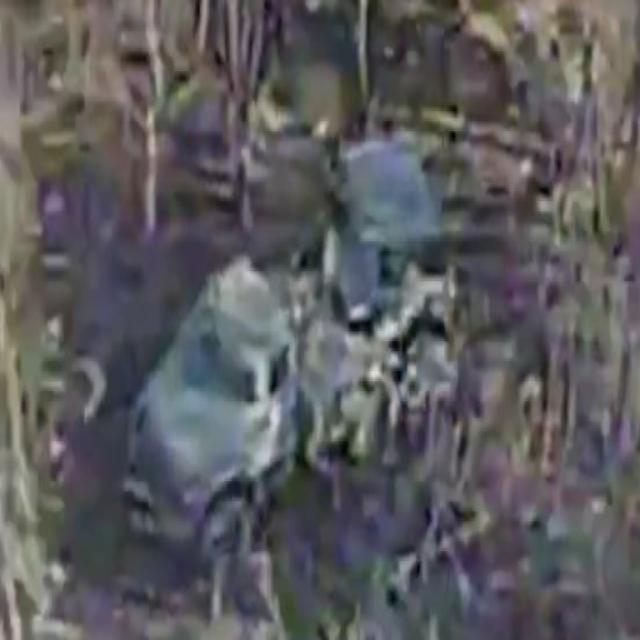MLRS: (128, 135, 466, 558)
